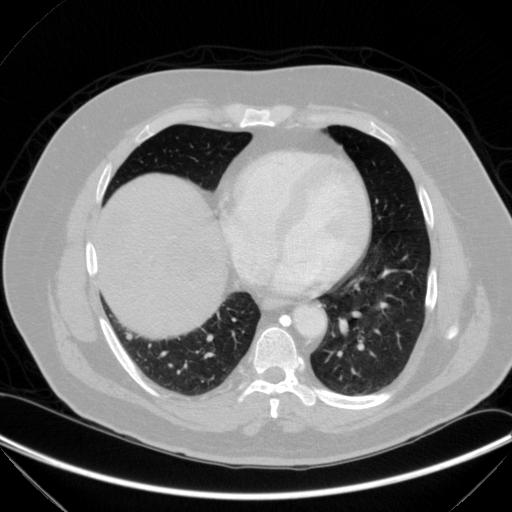nodule: (124, 331, 135, 342)
